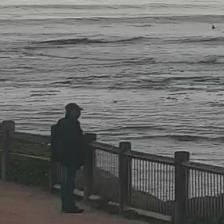surfer: (221, 29, 223, 35), (212, 25, 215, 29)
